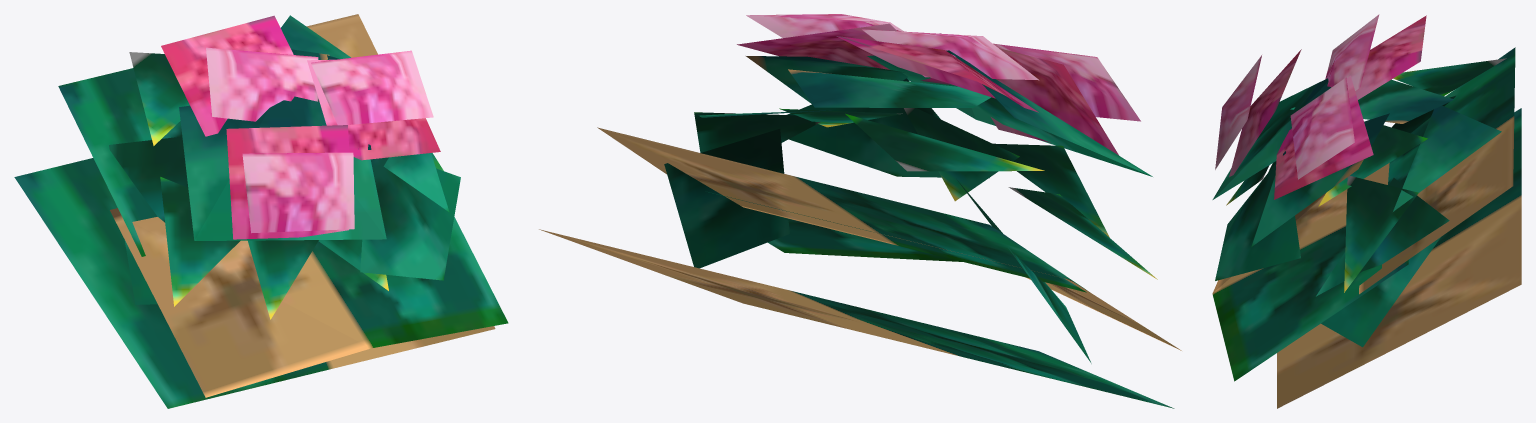
File: fg_bushC_2_pi.dae
3 renders of one model, left to right at view 1: azimuth 30°, elevation 25°; view 2: azimuth 150°, elevation 25°; view 3: azimuth 270°, elevation 25°, orthographic. The views are drawn at different scales.
Parts seen in each view (by area): view 1: fg_bushC_2_pi; view 2: fg_bushC_2_pi; view 3: fg_bushC_2_pi.
Boxes of the visible parts, left/top/right/bottom form: fg_bushC_2_pi: left=14, top=14, right=508, bottom=408; fg_bushC_2_pi: left=539, top=14, right=1181, bottom=408; fg_bushC_2_pi: left=1212, top=14, right=1521, bottom=408.
Size of the model in its own units: 47.83 by 36.01 by 35.4.
1 material, 1 textured.
